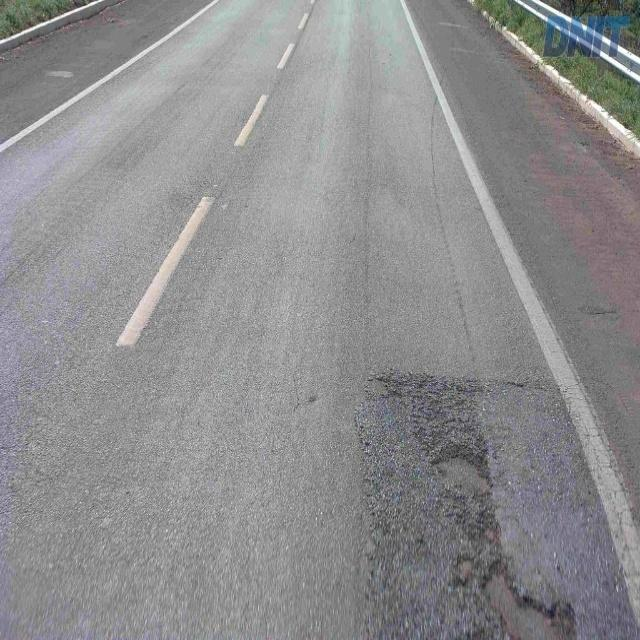pothole: (407, 446, 572, 639)
